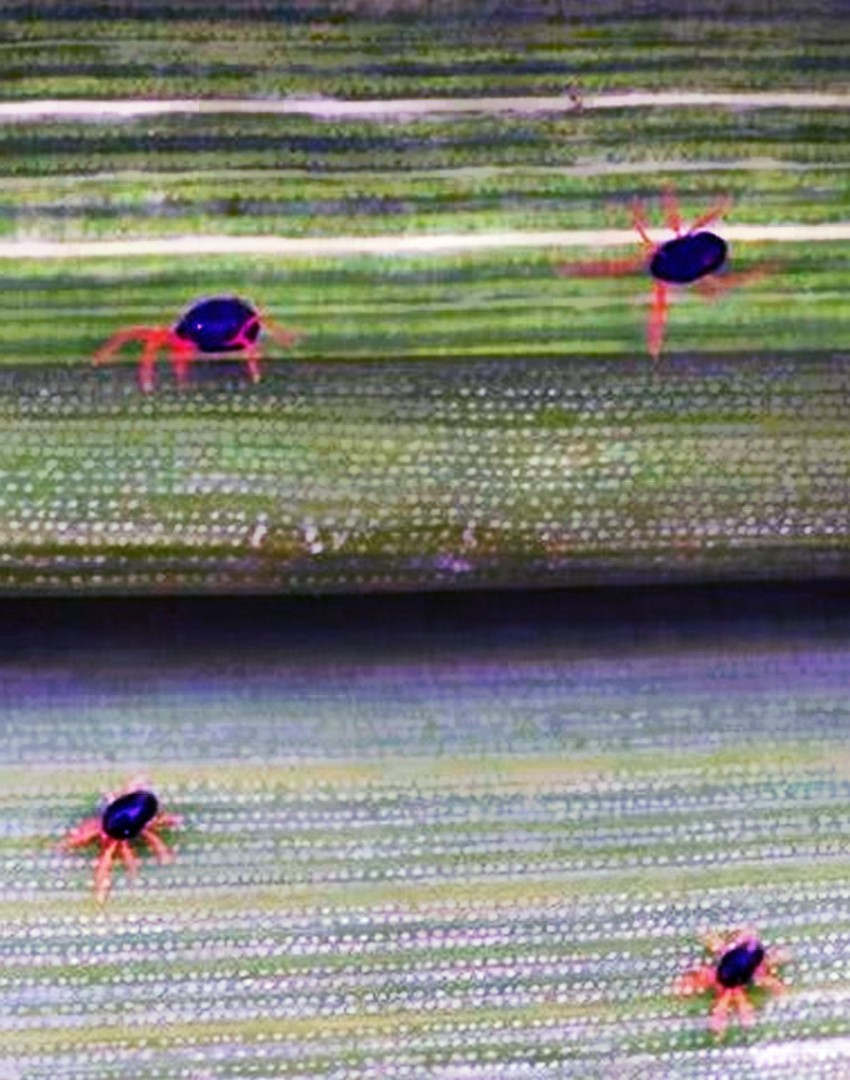Wheat Red Spider: (567, 173, 789, 368), (47, 754, 206, 930)
